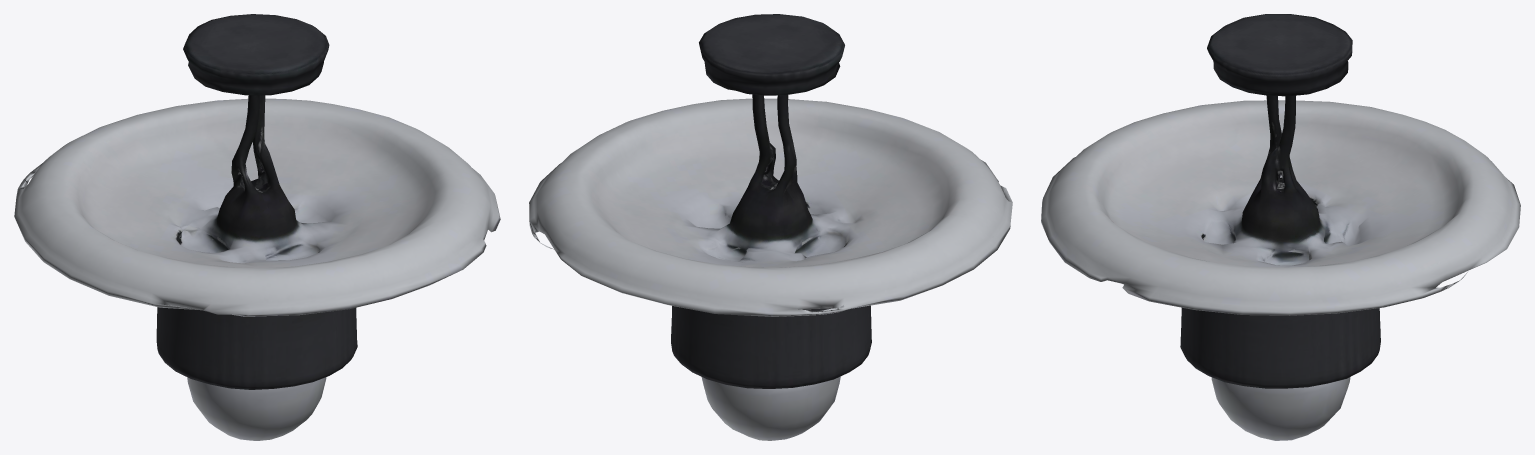
Rendered from ceiling_lamp.fbx.
3 renders of one model, left to right at view 1: azimuth 30°, elevation 25°; view 2: azimuth 150°, elevation 25°; view 3: azimuth 270°, elevation 25°, orthographic.
Parts seen in each view (by area): view 1: mesh; view 2: mesh; view 3: mesh.
Part boxes in pixels (bbox=[...]): mesh: bbox=[14, 14, 500, 440]; mesh: bbox=[529, 14, 1012, 440]; mesh: bbox=[1041, 14, 1520, 440].
Bounding box in the file's own units: 98.53 × 89.28 × 98.77.
